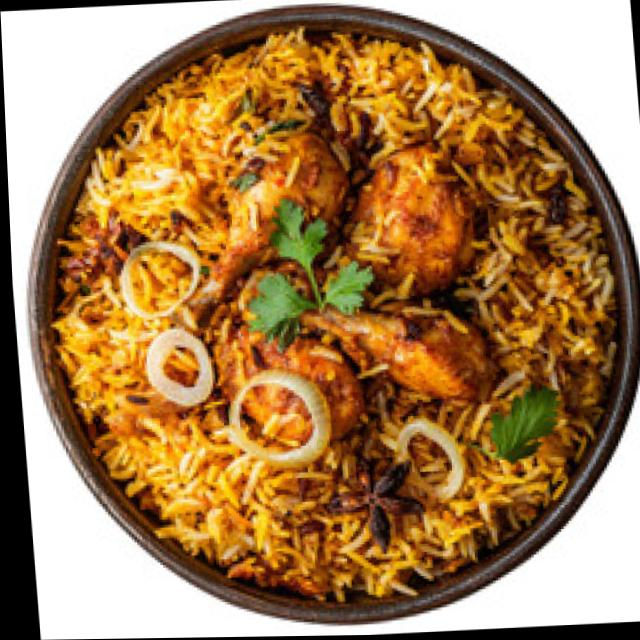BIRIYANI: (52, 27, 618, 608)
